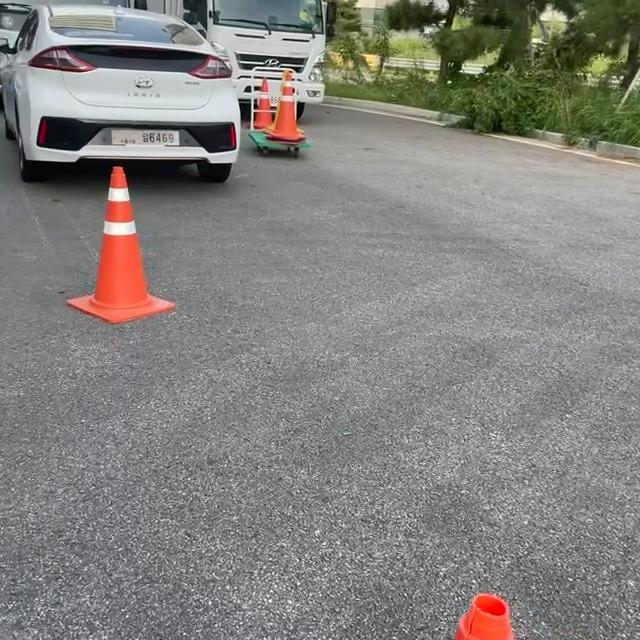fallen_object: (70, 162, 201, 362), (240, 57, 347, 186), (452, 570, 561, 640)
